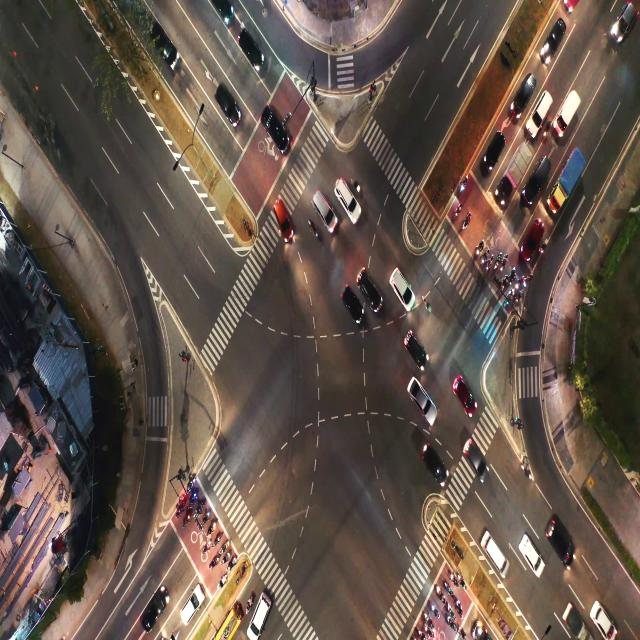bus: (224, 621, 234, 640)
car: (411, 381, 432, 414), (263, 107, 279, 136), (468, 444, 483, 471), (162, 35, 176, 61), (484, 536, 500, 558), (344, 286, 356, 314), (394, 272, 408, 296), (456, 383, 472, 404), (550, 527, 565, 548), (216, 1, 232, 19), (361, 272, 374, 294), (599, 614, 613, 633), (517, 85, 529, 107), (408, 335, 421, 355), (427, 450, 440, 470), (220, 83, 229, 111), (244, 40, 257, 59), (547, 30, 560, 48), (149, 597, 160, 617), (524, 541, 535, 560), (340, 180, 348, 206), (276, 202, 286, 222), (316, 192, 326, 212), (187, 600, 197, 620), (529, 226, 537, 248), (535, 166, 543, 187), (538, 102, 546, 120), (258, 602, 264, 624), (490, 142, 498, 158)
motorcycle: (426, 297, 433, 321), (522, 467, 533, 480), (310, 222, 319, 236), (459, 624, 465, 639), (354, 178, 360, 192), (177, 503, 183, 517), (431, 603, 437, 616), (244, 600, 250, 612), (184, 516, 190, 528), (459, 574, 464, 587), (212, 558, 218, 568), (524, 277, 529, 289), (446, 615, 452, 625), (222, 542, 229, 550), (459, 182, 464, 193), (456, 600, 461, 610), (447, 602, 452, 612), (230, 560, 234, 572), (416, 628, 422, 636), (449, 572, 454, 581), (444, 582, 449, 591), (502, 280, 506, 291), (188, 479, 193, 487), (542, 242, 546, 252), (509, 274, 512, 286), (436, 587, 441, 594), (516, 291, 519, 302), (494, 264, 499, 270), (193, 494, 196, 502), (204, 514, 208, 520), (216, 535, 220, 541), (220, 578, 224, 584), (486, 262, 490, 268), (199, 505, 202, 512), (205, 544, 208, 551), (210, 523, 213, 530), (464, 221, 467, 228), (501, 264, 504, 271), (425, 612, 428, 619), (224, 554, 226, 564), (478, 245, 480, 254), (482, 256, 485, 262), (456, 207, 458, 215), (510, 292, 512, 300), (516, 282, 518, 288), (425, 628, 428, 632)
truck: (570, 609, 586, 639), (562, 164, 575, 190), (510, 159, 521, 189), (564, 102, 574, 116)
